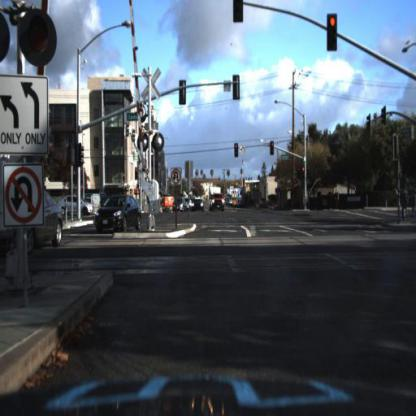biker: (399, 181, 410, 223)
car: (9, 188, 63, 249), (94, 188, 145, 234), (90, 193, 145, 231), (56, 193, 93, 222), (210, 192, 228, 215), (190, 195, 206, 216), (175, 199, 187, 215)
pedestrian: (399, 167, 412, 232), (331, 181, 344, 217), (334, 186, 342, 211), (411, 184, 416, 219)
trafficLight: (232, 1, 244, 25), (234, 140, 240, 162)
trafficLight-Red: (328, 14, 338, 52), (300, 159, 307, 177), (270, 141, 276, 158), (302, 164, 307, 175)
